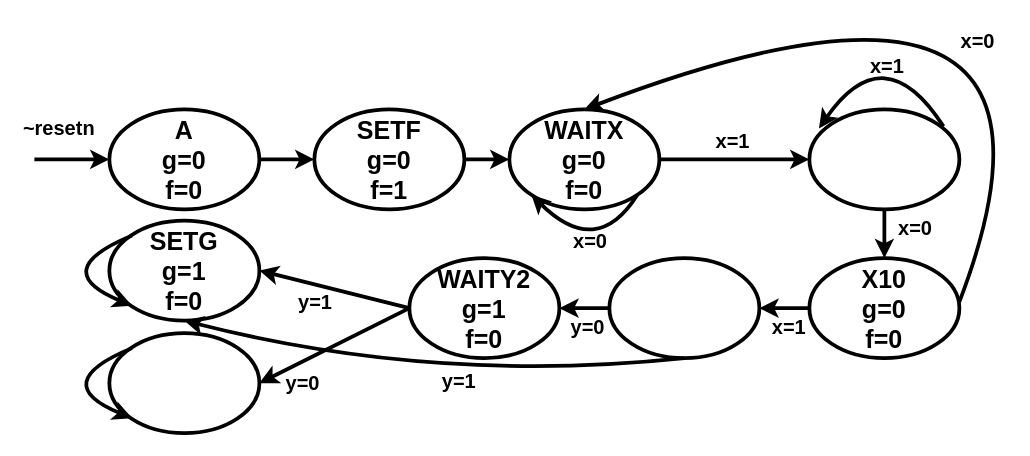
Some shapes in this 1030 by 456 pixel diagram are drawn without their labels. Here are the shapes that lost their labels. From the top down, the centre of each, then its label:
At (x=884, y=159): "X1 g=0 f=0".
At (x=684, y=307): "WAITY1 g=1 f=0".
At (x=184, y=382): "CLRG g=0 f=0".
